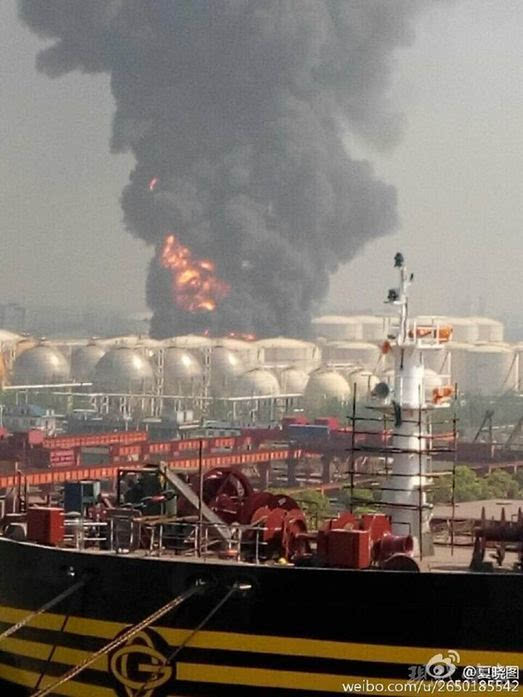fire: (157, 236, 235, 330)
smoke: (132, 13, 402, 228)
